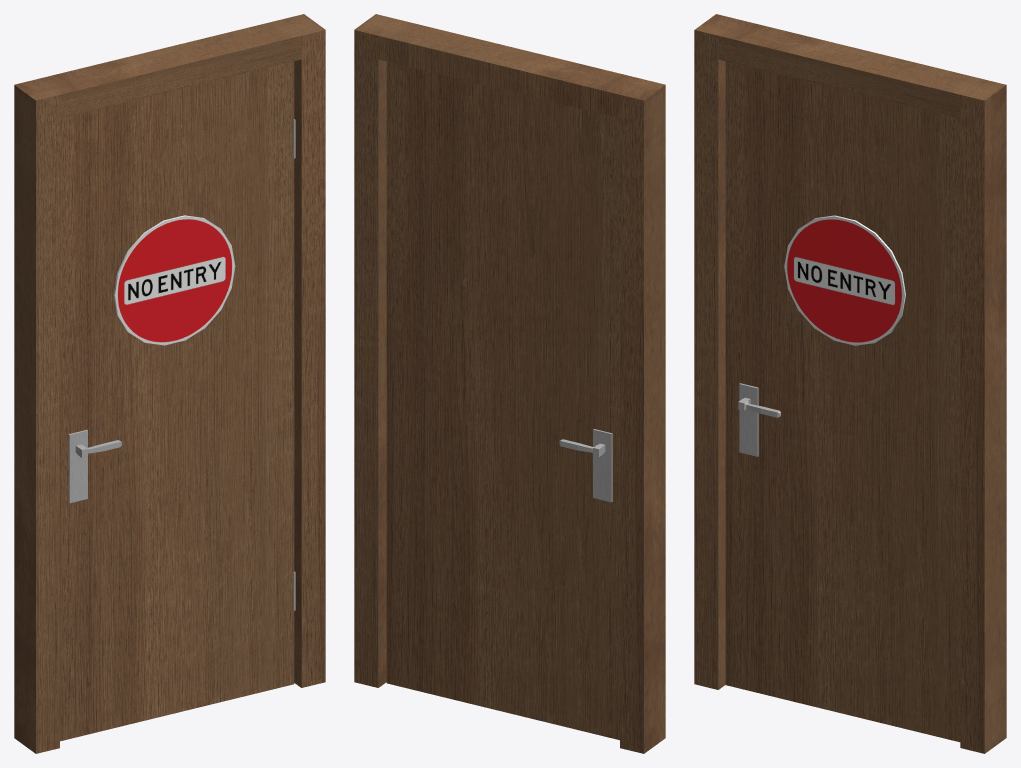
Rendered from Door.FBX.
The picture shows the model from 3 angles, left to right: view 1: azimuth 30°, elevation 25°; view 2: azimuth 150°, elevation 25°; view 3: azimuth 330°, elevation 25°; orthographic projection.
Visible parts, largest first — view 1: Door, door frame; view 2: Door, door frame; view 3: Door, door frame.
Part boxes in pixels (x1,y1,x2,y2): Door: (60, 61, 295, 741); door frame: (14, 14, 325, 753); Door: (386, 61, 619, 740); door frame: (354, 14, 665, 753); Door: (725, 61, 960, 742); door frame: (694, 14, 1006, 753).
Bounding box in the file's own units: 96.56 × 208 × 13.27.
Materials: 3 (3 with a texture image).
